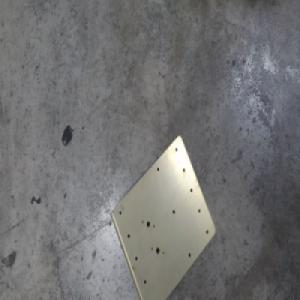MetalSheet: (108, 132, 216, 300)
